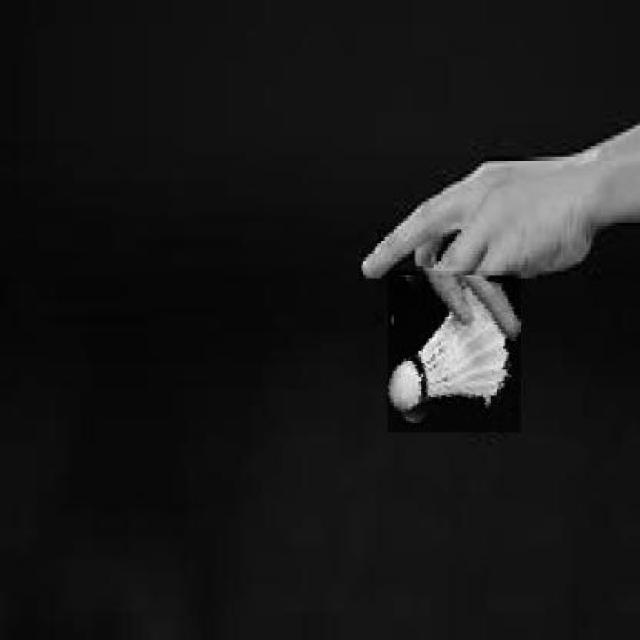Shuttlecock: (388, 271, 520, 432)
